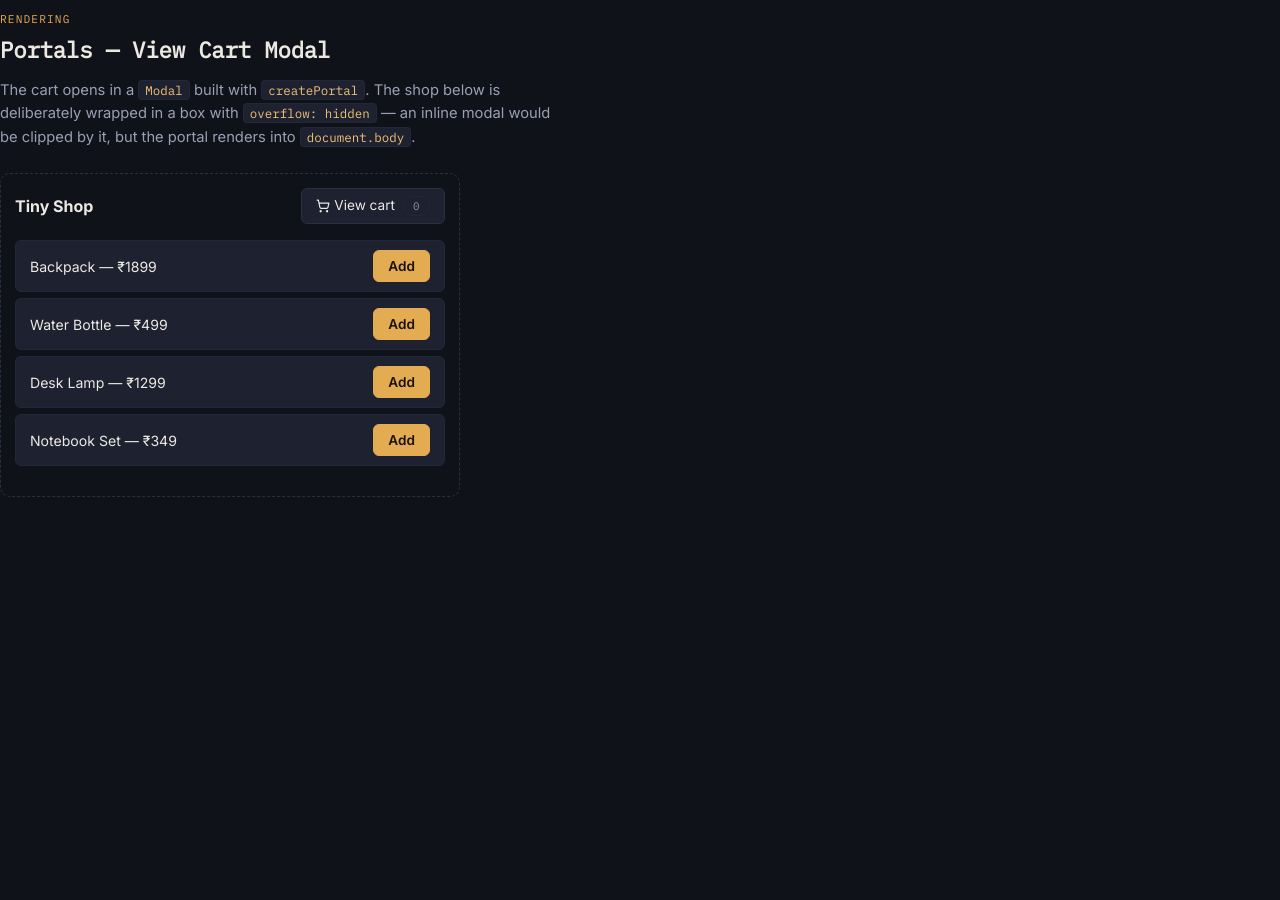
Test: Task 32 – view cart modal › removes a line when its quantity drops to zero
The width and height of the screenshot is (1280, 900).
Click the button named "Add Desk Lamp to cart".
click(402, 382)  # box [373,366,430,398]
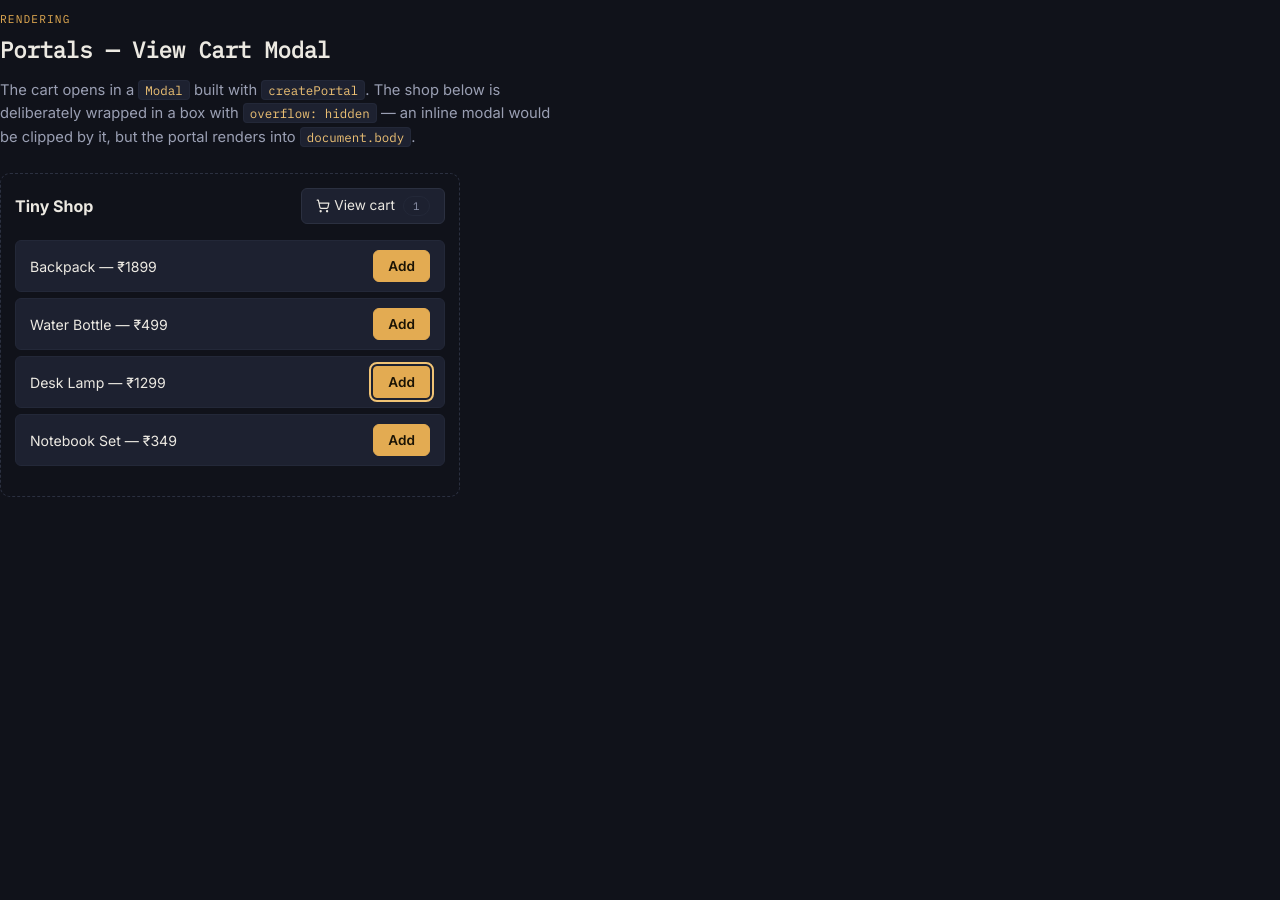
Click the button "View cart 1".
click(373, 206)  # box [301,188,445,224]
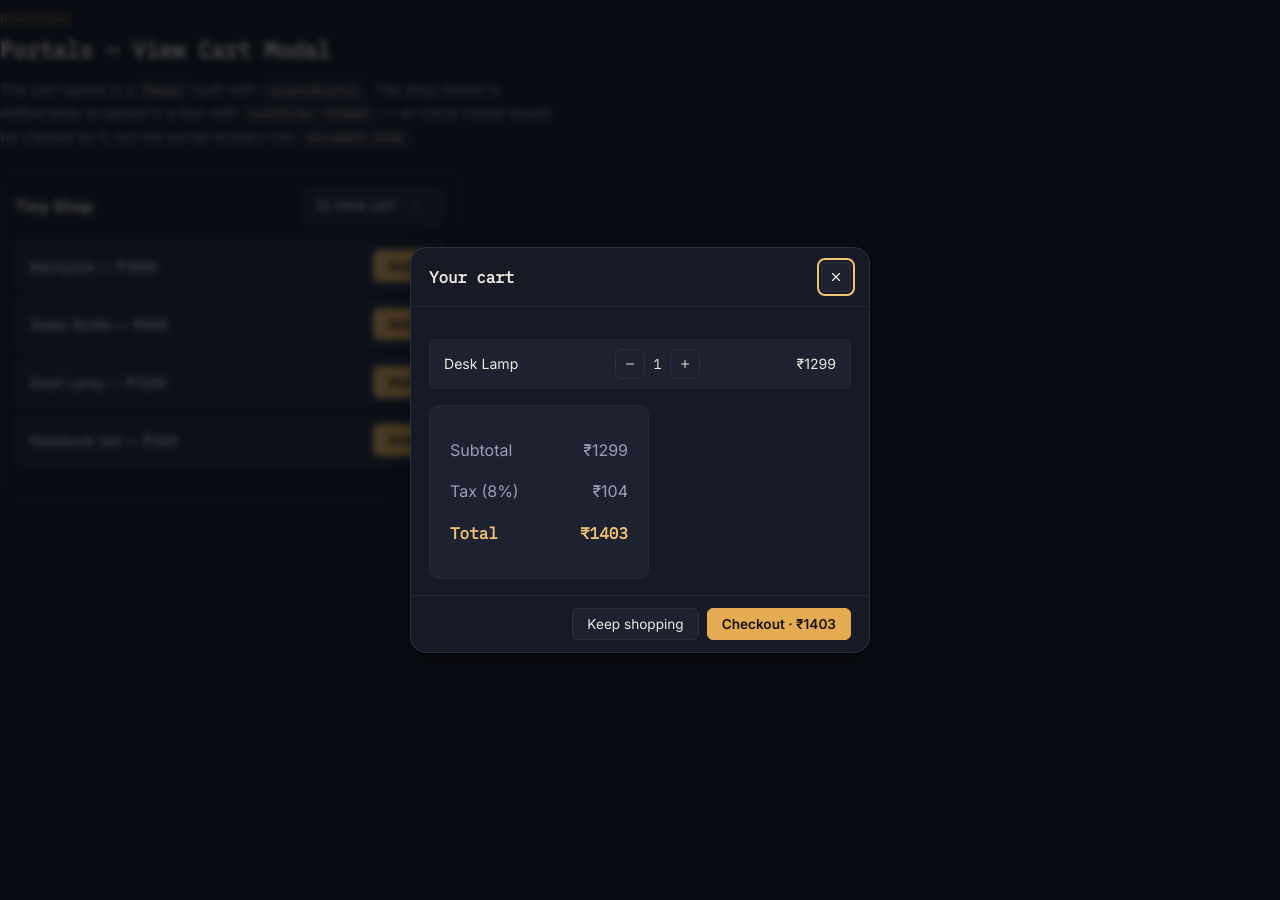
Click the button named "Decrease Desk Lamp".
click(630, 364)  # box [615,349,645,379]
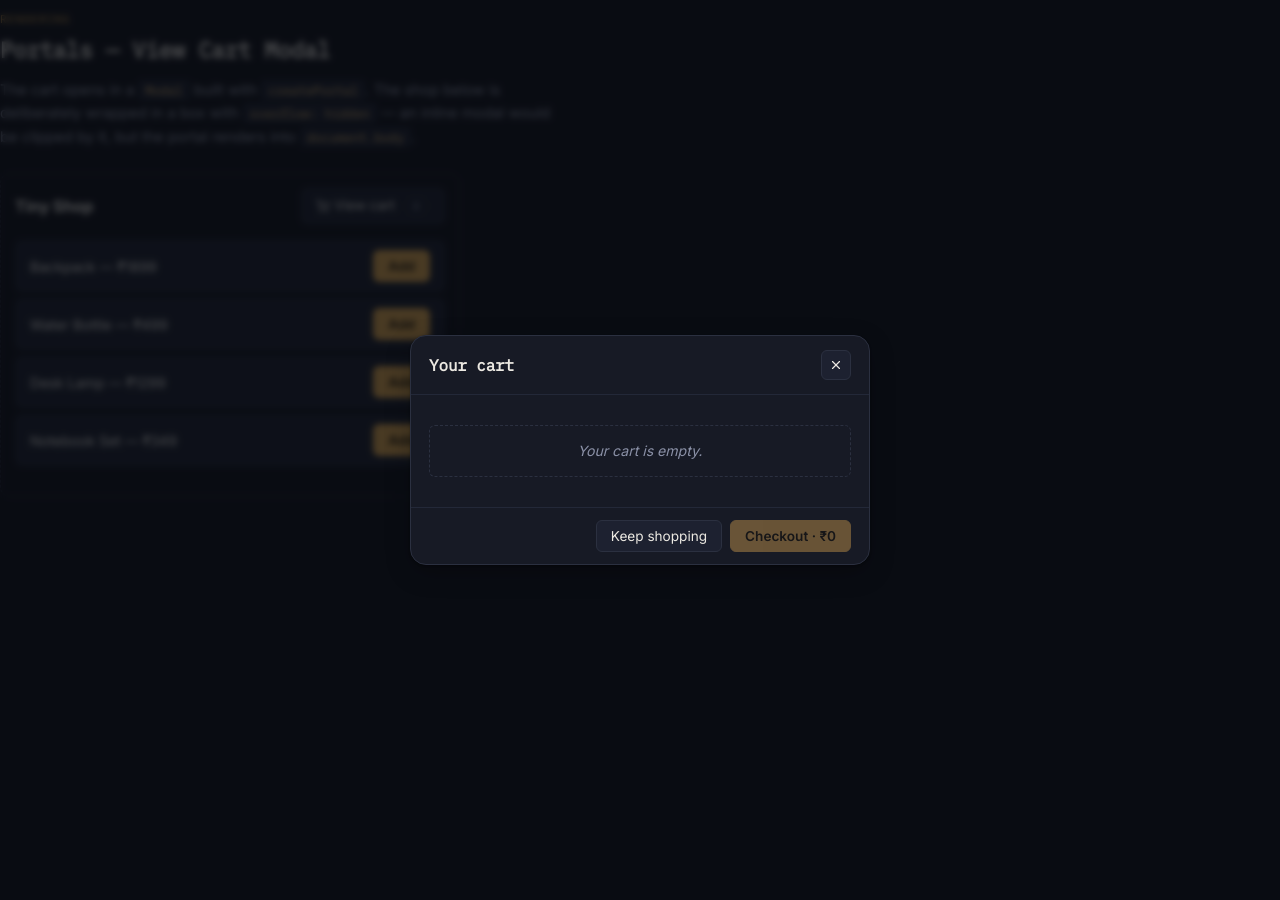
Now the text "Your cart is empty." is shown, box [429,425,851,477]
